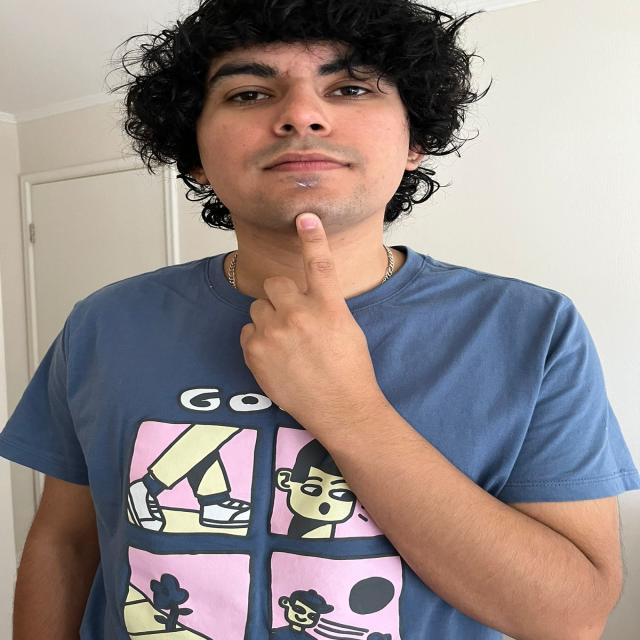T: (231, 204, 369, 409)
